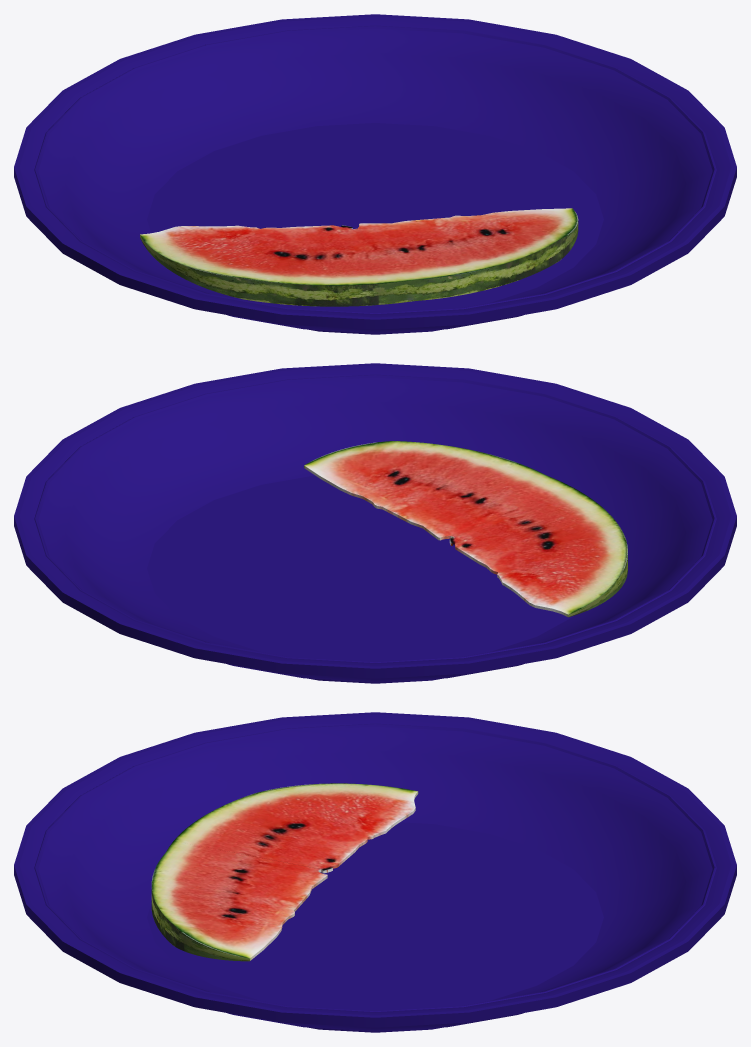
The model's file is Belahan Semangka.fbx.
3 views of the same model, one above another, from view 1: azimuth 30°, elevation 25°; view 2: azimuth 150°, elevation 25°; view 3: azimuth 270°, elevation 25° (orthographic).
Visible parts, largest first — view 1: piring, Semongko; view 2: piring, Semongko; view 3: piring, Semongko.
Part boxes in pixels (x1=…): piring: x1=14, y1=14, x2=736, y2=334; Semongko: x1=140, y1=208, x2=578, y2=306; piring: x1=14, y1=363, x2=736, y2=683; Semongko: x1=304, y1=441, x2=627, y2=617; piring: x1=14, y1=712, x2=736, y2=1032; Semongko: x1=151, y1=783, x2=418, y2=961.
Bounding box in the file's own units: 9706 × 1126 × 9706.
